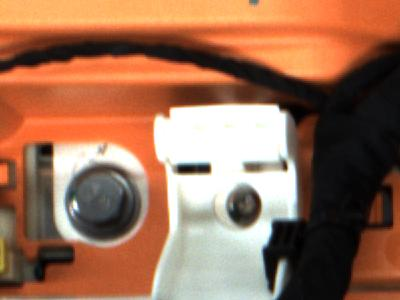nut_b: (65, 161, 147, 244)
